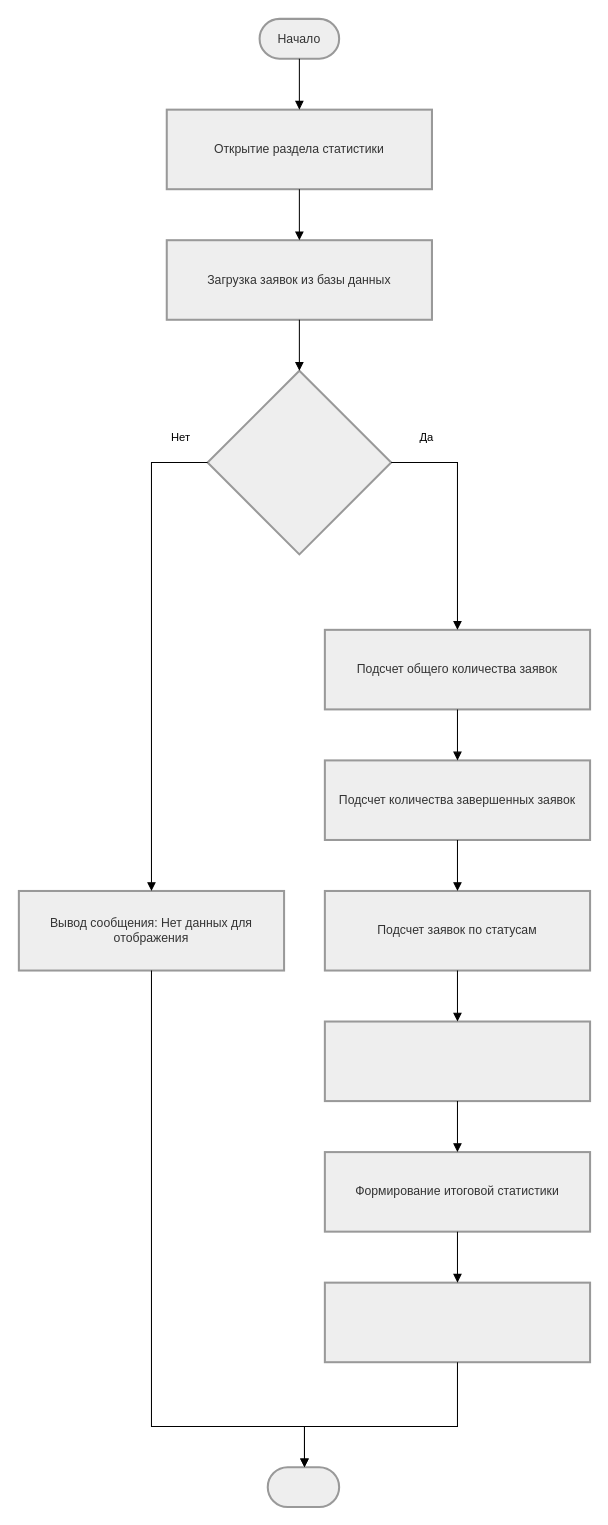
This 608x1525 diagram has some shape labels left out. Here are the shapes that lost their labels. From the top down, the centre of each, then its label:
point 299,462: Заявки найдены?
point 457,1061: Определение наиболее частых неисправностей
point 457,1322: Вывод статистики на экран
point 303,1487: Конец
